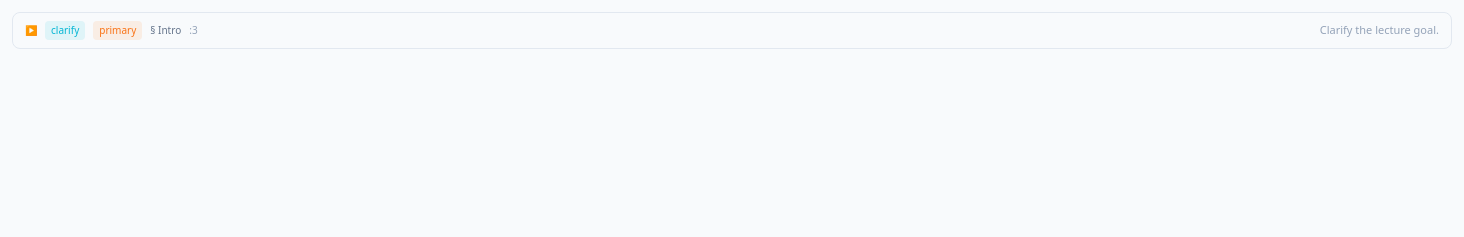
Test case: ChangeCard › uses professor-facing review status labels
Click the button "▶ clarify primary § Intro :3 Clarify the lecture goal." at [65, 30], box [13, 13, 1451, 48]
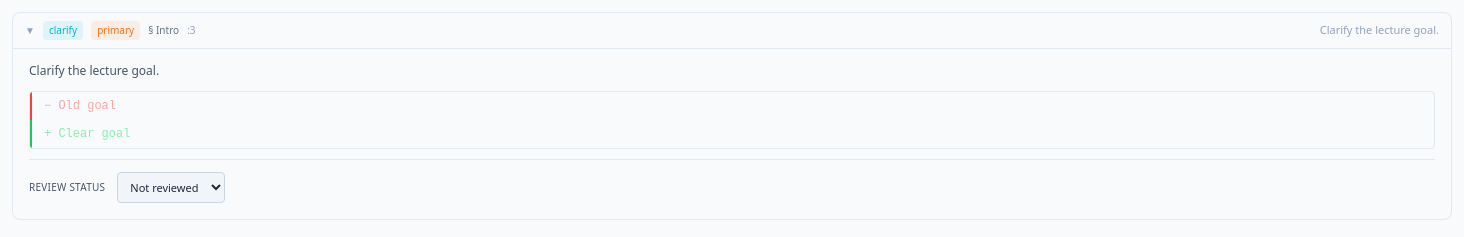
Result: the text "Review status" is shown at [29, 180, 105, 194]
